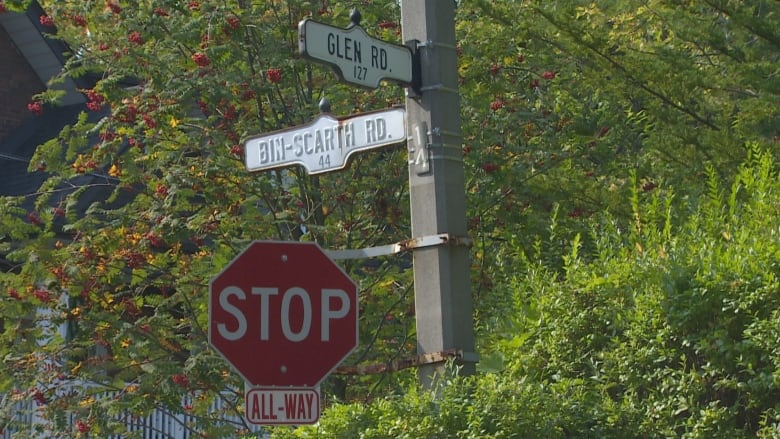stopsign: (207, 240, 361, 388)
